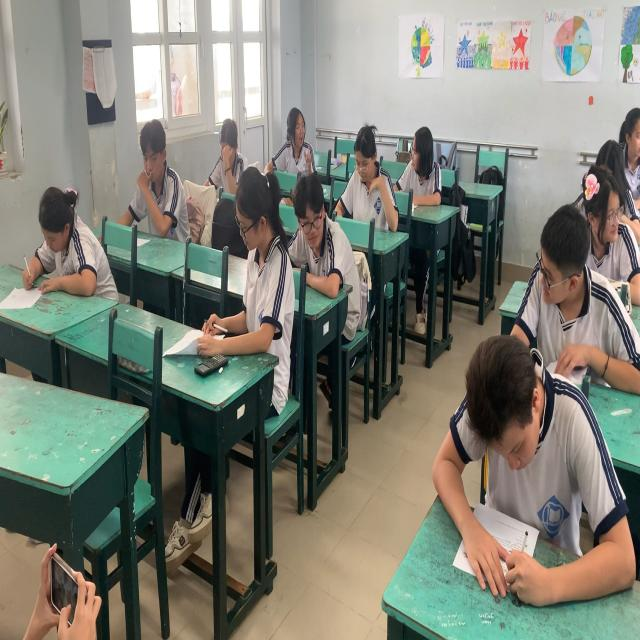cheating: (500, 181, 600, 381), (218, 151, 294, 396), (285, 165, 347, 343), (118, 101, 186, 250), (275, 86, 326, 190), (394, 120, 442, 216)
not_cheating: (414, 300, 598, 596), (0, 135, 96, 307), (532, 120, 622, 276), (580, 69, 640, 192), (342, 119, 392, 247), (204, 102, 249, 202)
